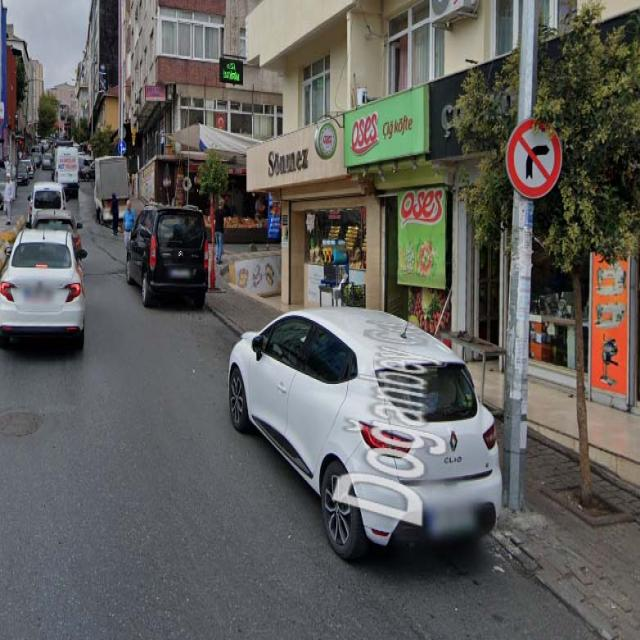sagadonulmez: (507, 118, 562, 200)
